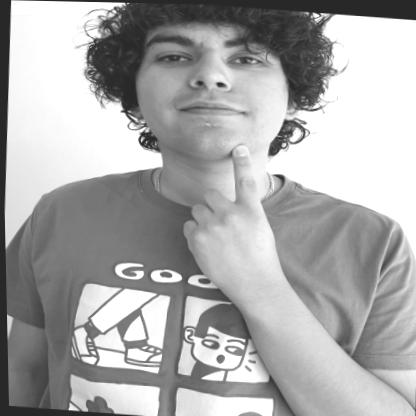T: (169, 136, 281, 293)
